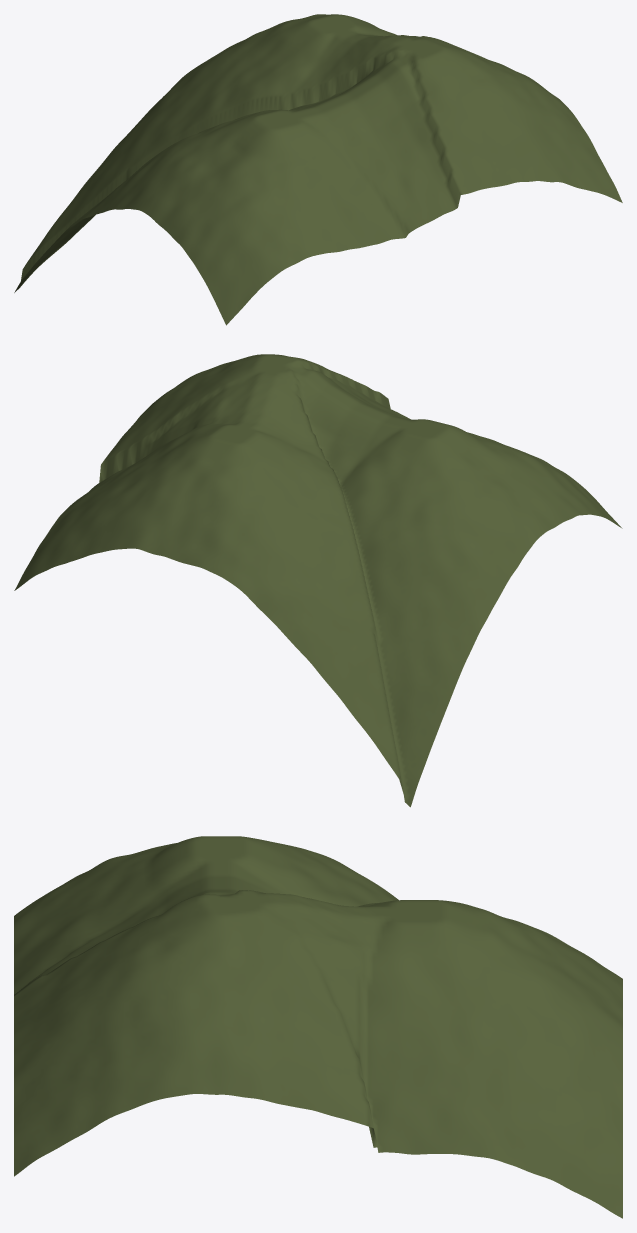
The model's file is great-wall-demo-terrain.glb.
3 views of the same model, one above another, from view 1: azimuth 30°, elevation 25°; view 2: azimuth 150°, elevation 25°; view 3: azimuth 270°, elevation 25° (orthographic). The views are drawn at different scales.
Parts seen in each view (by area): view 1: Demo_Terrain; view 2: Demo_Terrain; view 3: Demo_Terrain.
Part boxes in pixels (box(x1,y1,x2,y2)): Demo_Terrain: box(14, 14, 622, 325); Demo_Terrain: box(14, 354, 622, 807); Demo_Terrain: box(14, 836, 622, 1218).
Size of the model in its own units: 206 by 138 by 190.
